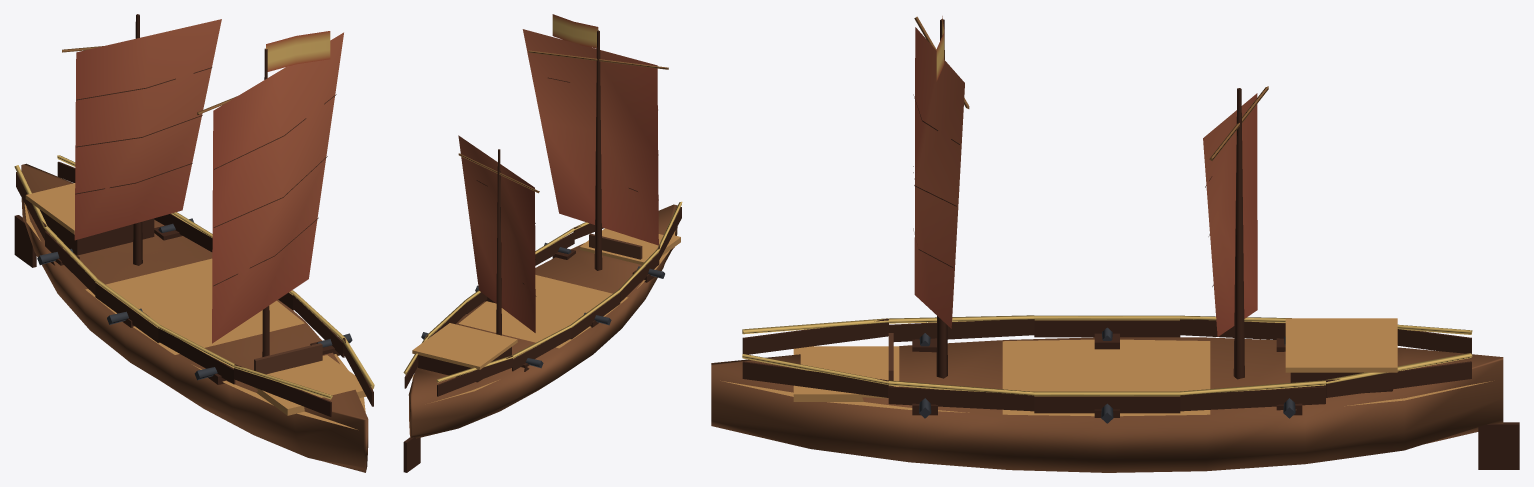
Rendered from patrol-lod2.glb.
The picture shows the model from 3 angles, left to right: view 1: azimuth 30°, elevation 25°; view 2: azimuth 150°, elevation 25°; view 3: azimuth 270°, elevation 25°; orthographic projection. The views are drawn at different scales.
Visible parts, largest first — view 1: sail_02, sail_01, hull, fittings_wood, deck, fittings_trim, bow_firing_platform_body, flag_01, patrol_stern_house_body, fittings_deck, shield_rack_body, rudder_pivot (+2 smaller); view 2: sail_02, hull, sail_01, fittings_wood, deck, fittings_deck, fittings_trim, mast_timber_02, bow_firing_platform_body, flag_01, mast_timber_01, patrol_stern_house_body (+3 smaller); view 3: hull, fittings_wood, deck, sail_02, sail_01, fittings_trim, fittings_deck, bow_firing_platform_body, mast_timber_01, rudder_pivot.
Boxes of the visible parts, x1,y1,x2,y2 form: sail_02: (212, 32, 343, 343); sail_01: (74, 19, 221, 240); hull: (21, 163, 368, 472); fittings_wood: (16, 161, 373, 416); deck: (24, 203, 365, 429); fittings_trim: (14, 155, 374, 399); bow_firing_platform_body: (254, 355, 372, 415); flag_01: (266, 31, 330, 71); patrol_stern_house_body: (39, 209, 154, 255); fittings_deck: (25, 183, 75, 234); shield_rack_body: (254, 343, 322, 374); rudder_pivot: (14, 215, 36, 267); sail_02: (522, 29, 658, 245); hull: (408, 204, 677, 438); sail_01: (458, 135, 536, 332); fittings_wood: (404, 207, 681, 396); deck: (412, 231, 675, 402); fittings_deck: (412, 323, 517, 369); fittings_trim: (403, 201, 682, 382); mast_timber_02: (594, 30, 602, 270); bow_firing_platform_body: (580, 228, 680, 264); flag_01: (552, 14, 598, 48); mast_timber_01: (496, 149, 501, 335); patrol_stern_house_body: (418, 347, 511, 382); hull: (711, 337, 1503, 472); fittings_wood: (742, 319, 1471, 417); deck: (720, 339, 1492, 416); sail_02: (913, 27, 964, 328); sail_01: (1203, 93, 1257, 336); fittings_trim: (742, 315, 1472, 396); fittings_deck: (1285, 318, 1397, 372); bow_firing_platform_body: (793, 346, 899, 401); mast_timber_01: (1233, 88, 1244, 379); rudder_pivot: (1478, 422, 1519, 469).
Bounding box in the file's own units: 7.02 × 15.2 × 24.49.
